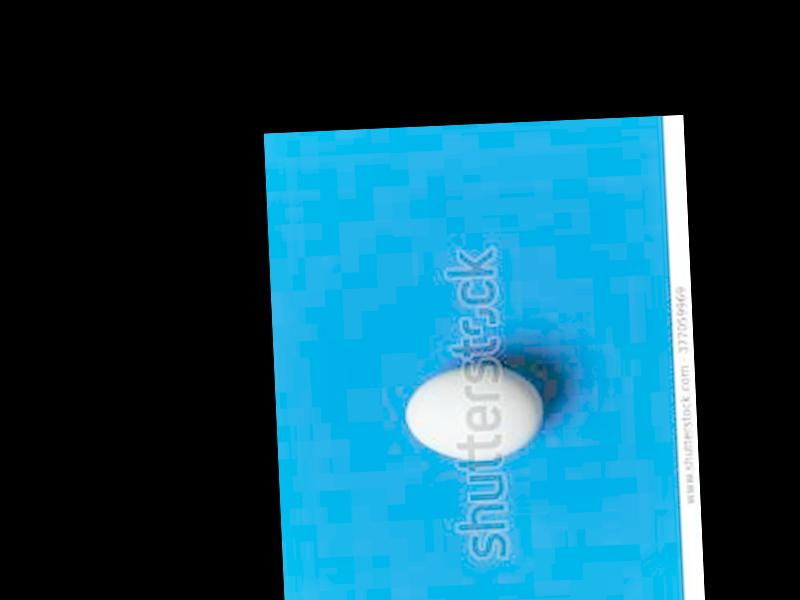Eggs: (399, 363, 544, 461)
